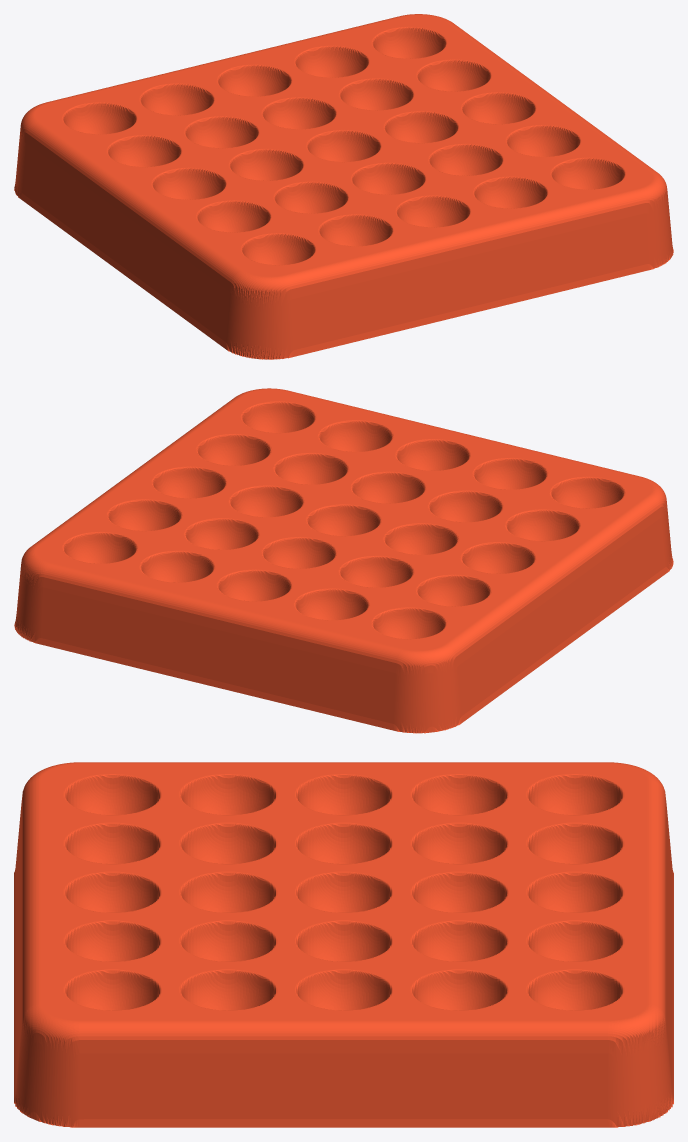
The model's file is mold.glb.
3 views of the same model, one above another, from view 1: azimuth 30°, elevation 25°; view 2: azimuth 150°, elevation 25°; view 3: azimuth 270°, elevation 25° (orthographic). The views are drawn at different scales.
Parts seen in each view (by area): view 1: geometry_0; view 2: geometry_0; view 3: geometry_0.
Boxes of the visible parts, box(x1,y1,x2,y2) form: geometry_0: box(14, 14, 673, 359); geometry_0: box(14, 388, 673, 733); geometry_0: box(14, 762, 673, 1127).
Bounding box in the file's own units: 0.0902 × 0.0145 × 0.0902.
